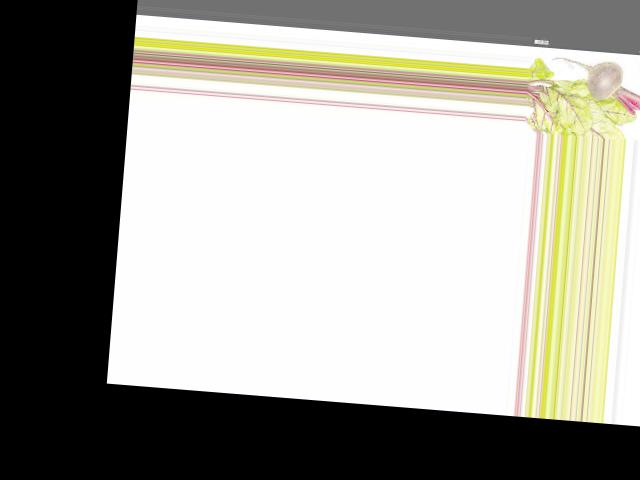beet: (548, 56, 640, 115)
